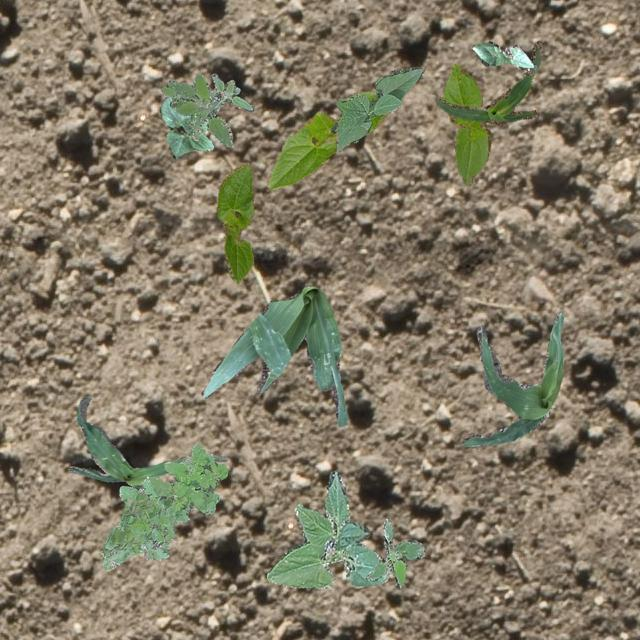crop: (200, 284, 346, 426), (266, 470, 390, 588), (67, 396, 226, 488), (462, 312, 562, 446), (267, 90, 387, 188), (434, 40, 542, 124), (330, 66, 422, 150), (442, 62, 491, 184), (216, 162, 252, 282), (158, 95, 212, 158), (470, 40, 536, 70)
weed: (100, 440, 227, 570), (160, 72, 232, 146), (364, 518, 424, 588), (208, 72, 252, 111)
